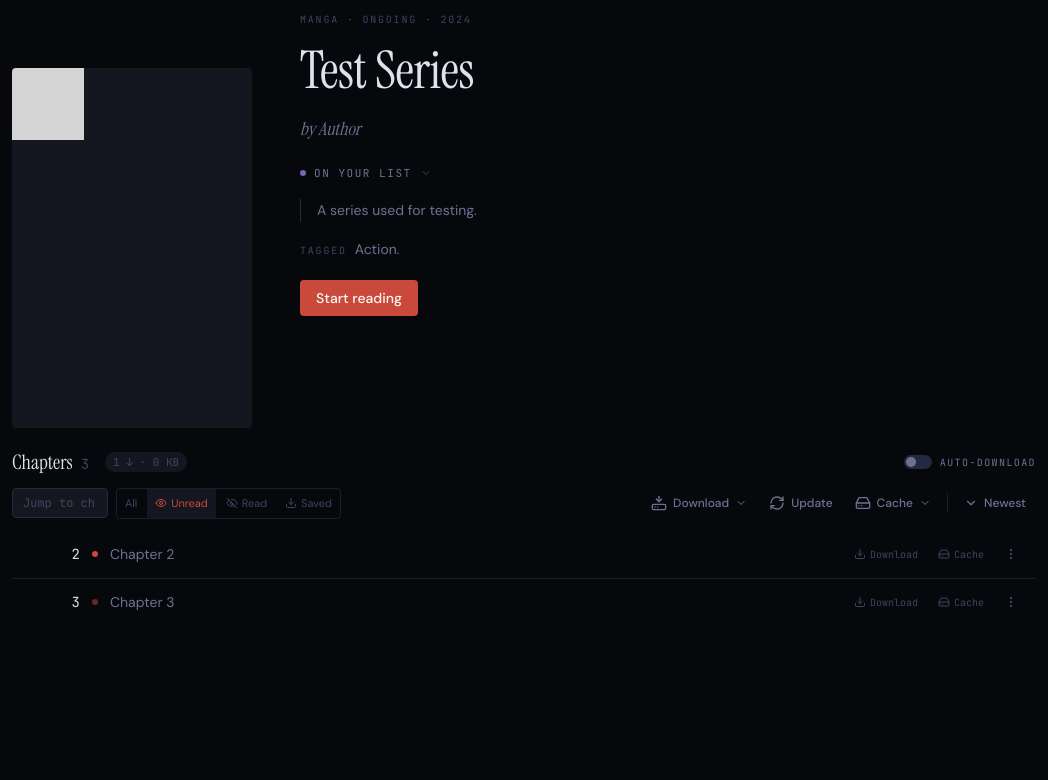
it: SeriesView › shows an error when per-series policy save fails
Expected: the heading "Test Series" is shown, top-left (300, 37), bottom-right (474, 104)
Click the switch named "Auto-download new chapters" at {"x": 970, "y": 462}, box top-left (904, 454), bottom-right (1036, 470)
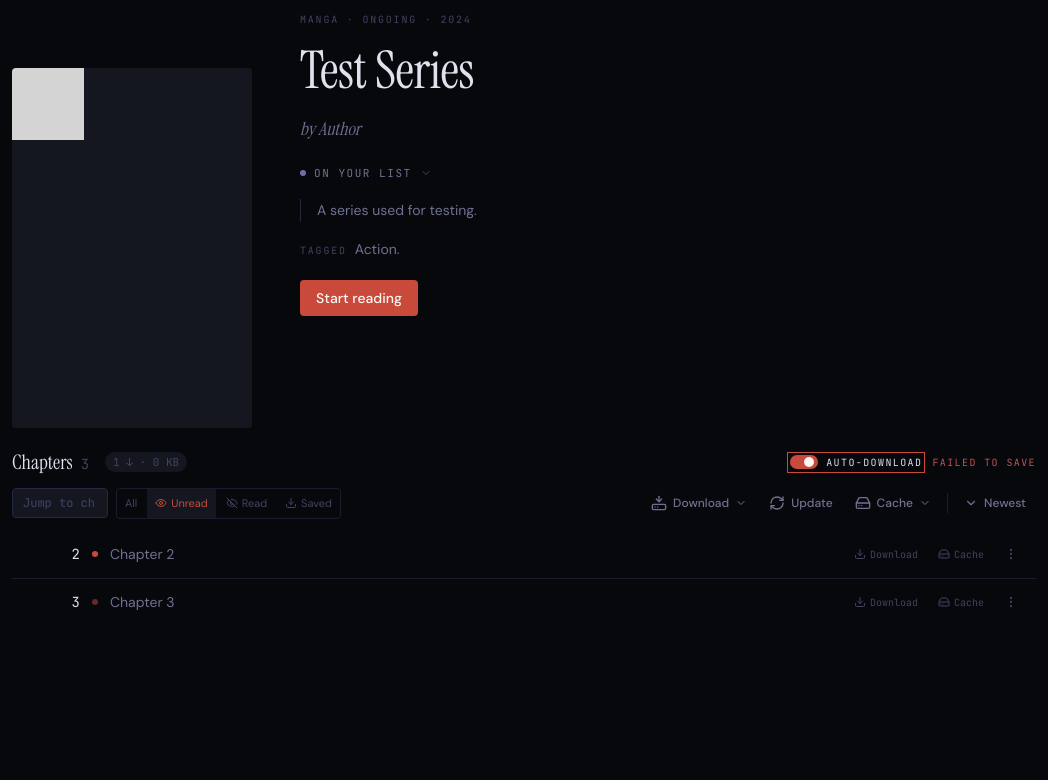
Result: the text "Failed to save" is shown at top-left (932, 454), bottom-right (1036, 470)
